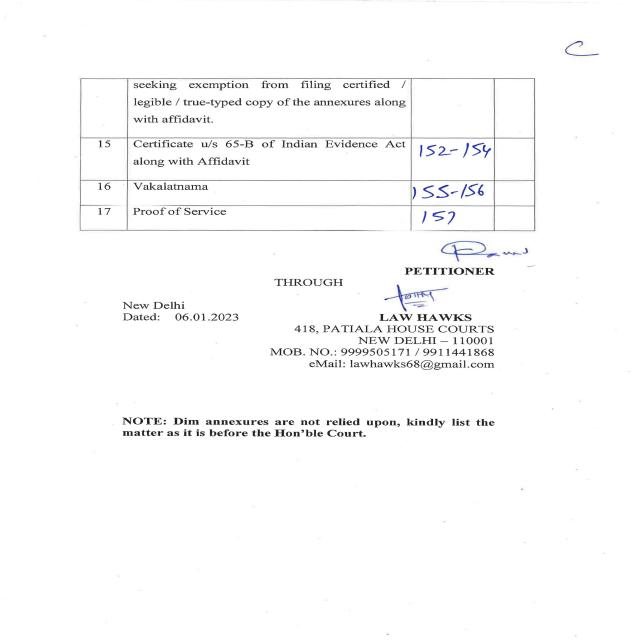page-number: (403, 0, 640, 74)
